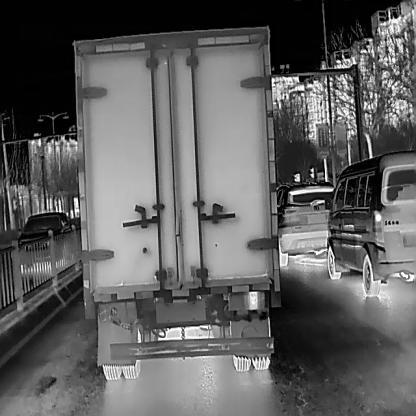car: (67, 24, 280, 380), (326, 149, 415, 293), (277, 181, 332, 264), (18, 211, 74, 268)
